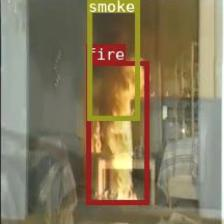fire: (85, 60, 148, 204)
smoke: (86, 0, 137, 119)
